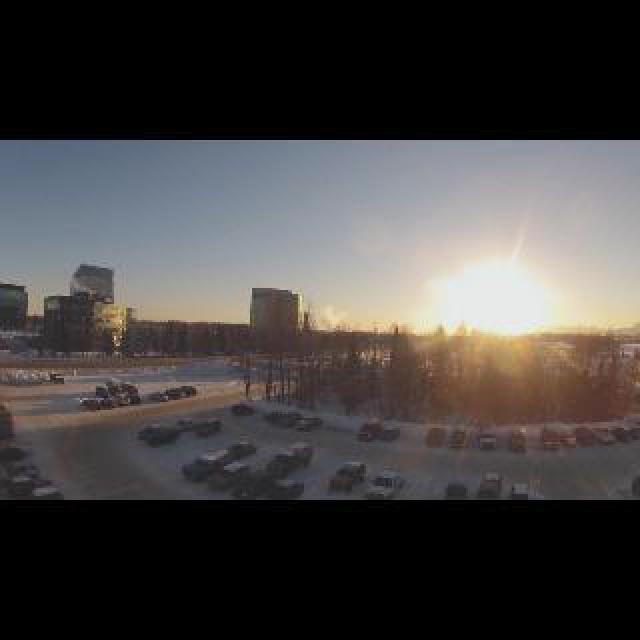Smoke: (66, 278, 96, 296)
